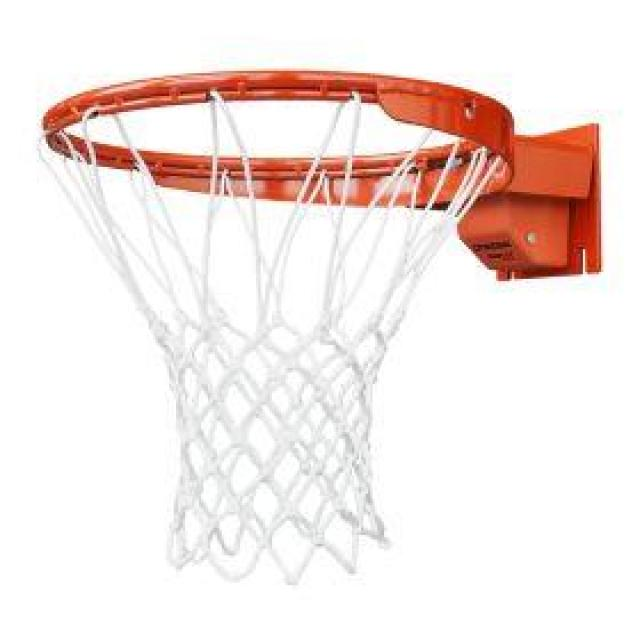hoop: (26, 59, 554, 590)
